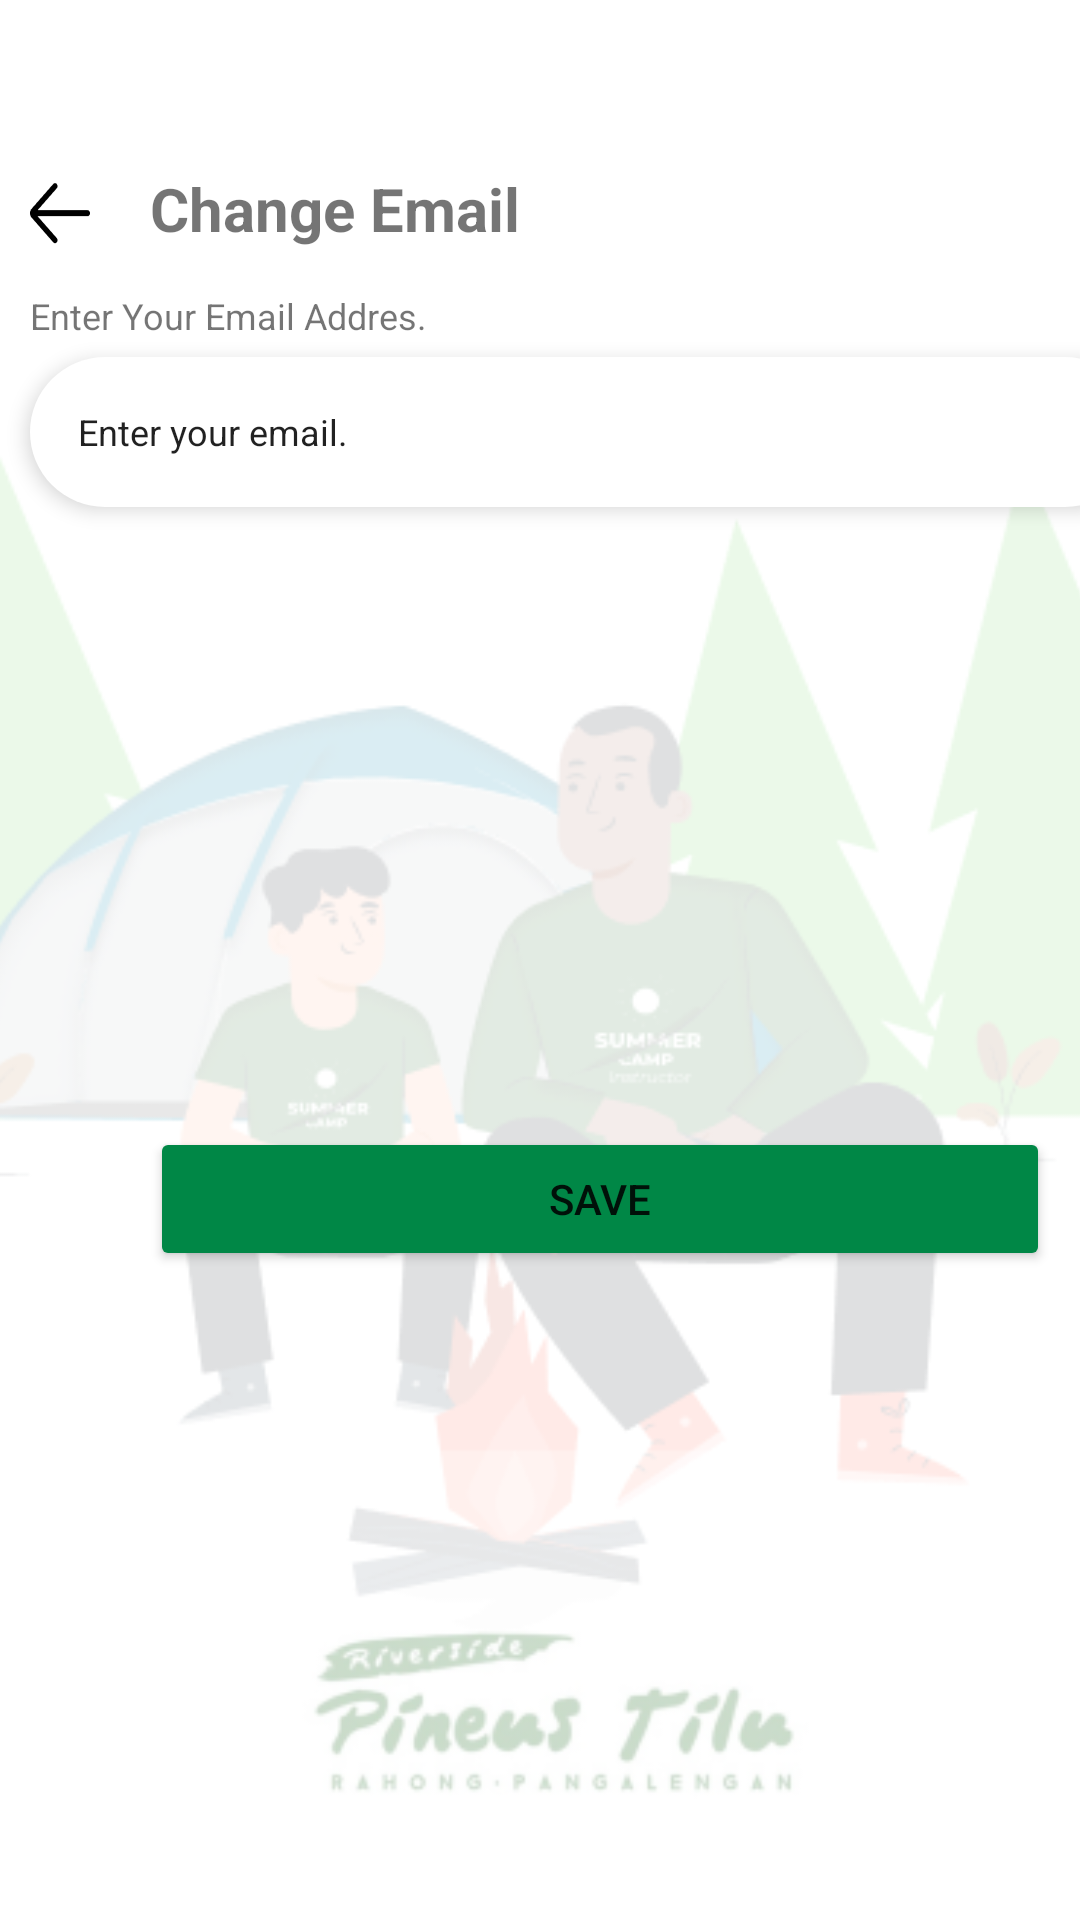

Named icons in this screenshot (1080×1920) and their bounding boxes, [x1, y1, x2, y2]:
panah: [30, 183, 90, 244]
